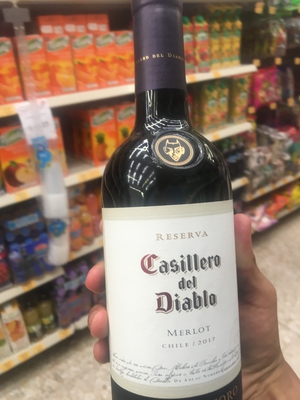casillero del diablo merlot: (93, 10, 257, 400)
